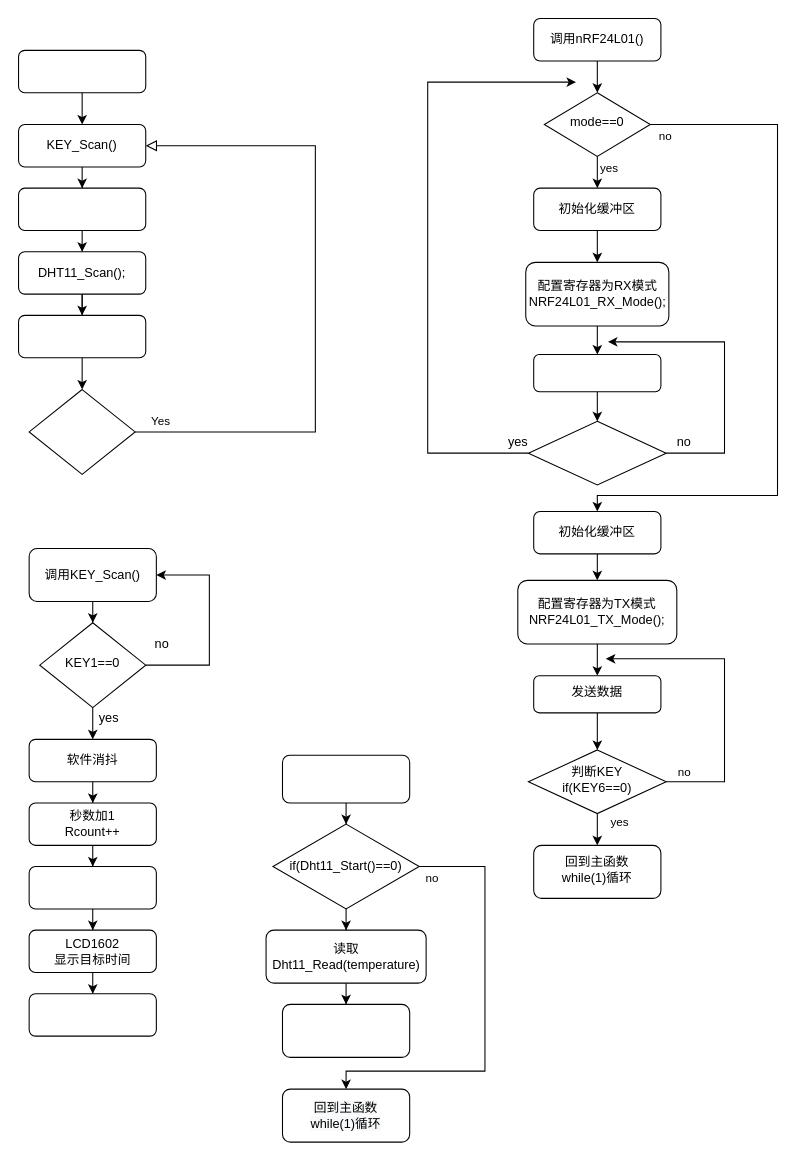
This 805x1161 diagram has some shape labels left out. The centre of each missing label's shape, as x and y in pixels:
"BEEP_Alert()" belongs at (x=81, y=209).
"LCD1602显示 读取的温度" belongs at (x=345, y=1030).
"nRF24L01();" belongs at (x=81, y=336).
"while(1)" belongs at (x=81, y=431).
"判断KEY if(KEY5==0)" belongs at (x=596, y=452).
"抬手检测" belongs at (x=92, y=1014).
"接收数据" belongs at (x=597, y=373).
"更新数组 LCD_Display_Stop" belongs at (x=92, y=887).
"相关初始化函数" belongs at (x=81, y=71).
"调用DHT11_Scan()" belongs at (x=345, y=778).
